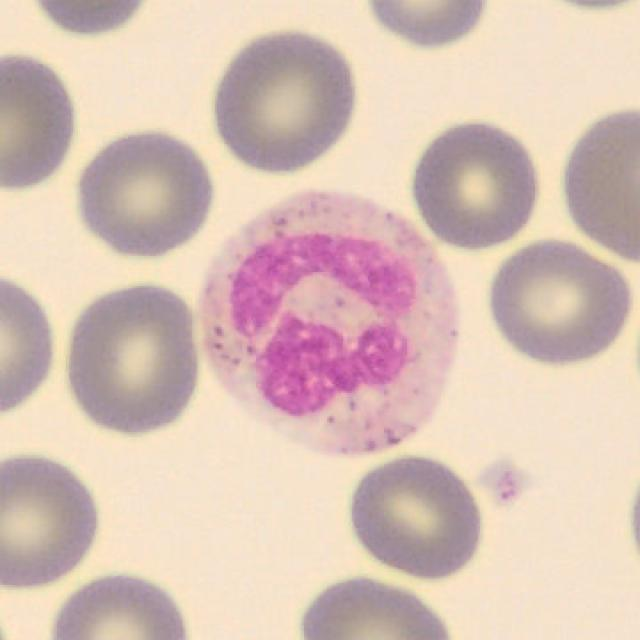Neutrofilo segmentado: (196, 188, 459, 457)
